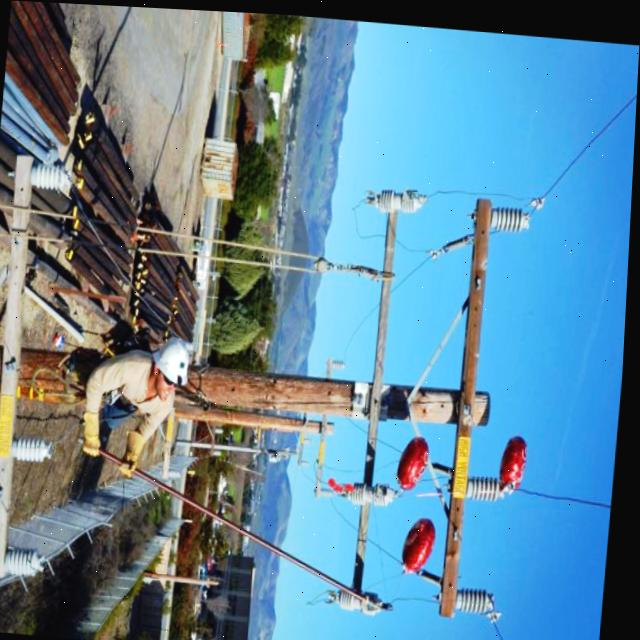obstruction: (467, 431, 531, 492), (403, 432, 457, 483), (407, 512, 440, 566)
poles: (180, 185, 494, 609)
wires: (328, 16, 640, 376), (475, 92, 637, 493), (465, 488, 615, 640), (279, 556, 507, 640), (372, 476, 450, 593), (291, 456, 363, 572), (313, 272, 381, 372)
